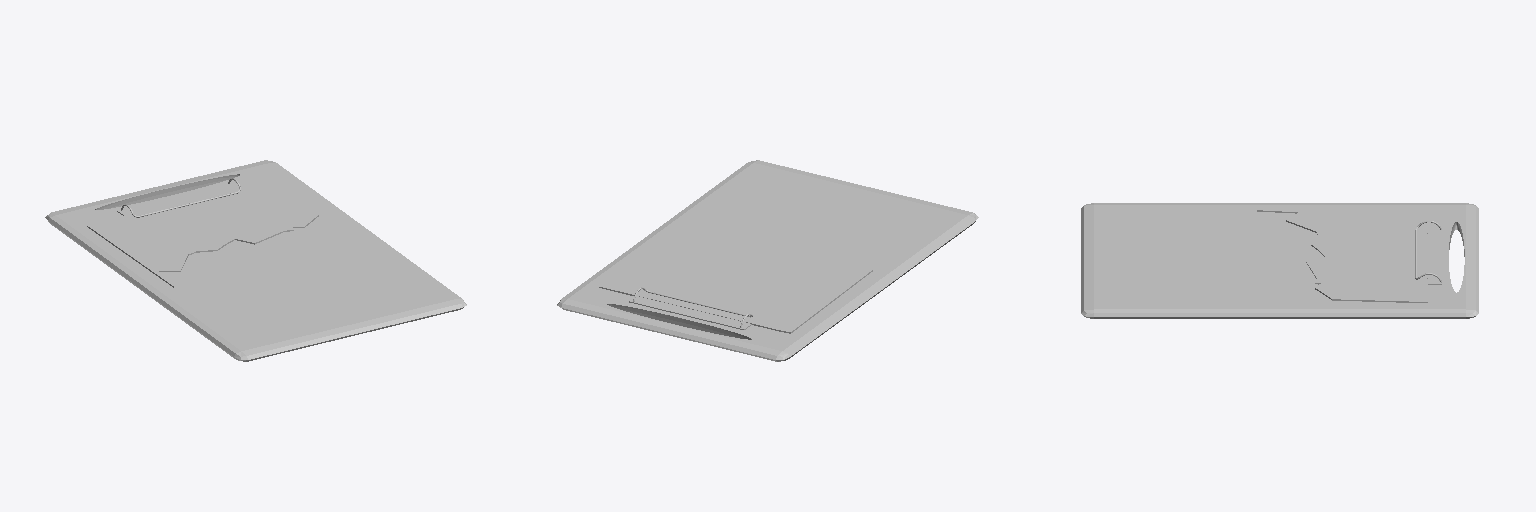
Rendered from spisok pokupateley.obj.
The picture shows the model from 3 angles: view 1: azimuth 30°, elevation 25°; view 2: azimuth 150°, elevation 25°; view 3: azimuth 270°, elevation 25°; orthographic projection.
Visible parts, largest first — view 1: Box002, Line001, Box003; view 2: Box002, Line001, Box003; view 3: Box002, Line001, Box003.
Boxes of the visible parts, x1=… form: Box002: x1=45, y1=160, x2=466, y2=361; Line001: x1=87, y1=179, x2=318, y2=287; Box003: x1=117, y1=183, x2=238, y2=215; Box002: x1=557, y1=160, x2=978, y2=361; Line001: x1=599, y1=252, x2=872, y2=333; Box003: x1=629, y1=296, x2=751, y2=329; Box002: x1=1081, y1=203, x2=1478, y2=318; Line001: x1=1257, y1=209, x2=1427, y2=302; Box003: x1=1427, y1=228, x2=1441, y2=284.
Size of the model in its own units: 30 by 2.27 by 45.